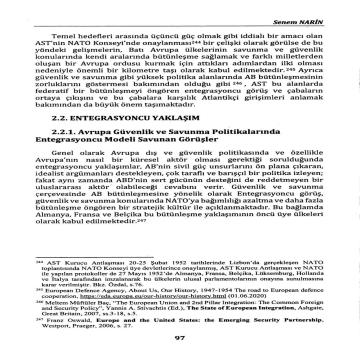footer: (41, 259, 330, 332)
header: (266, 19, 325, 25)
